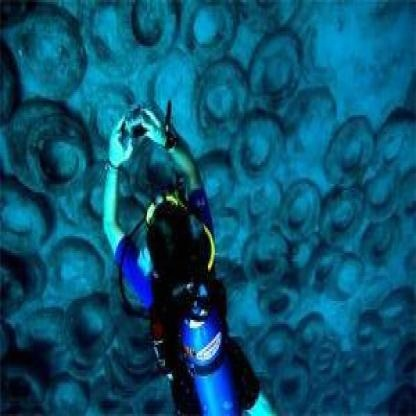tire: (19, 104, 97, 192), (248, 27, 318, 111), (244, 106, 301, 196), (194, 52, 251, 142), (58, 288, 118, 368), (244, 226, 295, 307), (110, 2, 178, 61), (1, 182, 54, 255), (18, 299, 72, 362), (323, 113, 369, 180), (279, 184, 326, 240), (264, 357, 310, 414), (297, 308, 328, 356)
